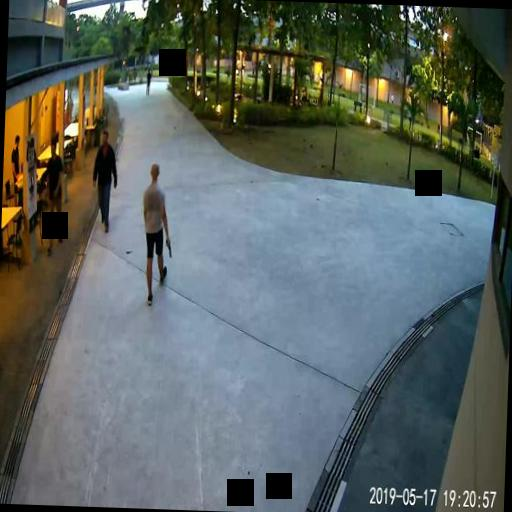Handgun: (163, 235, 171, 254)
